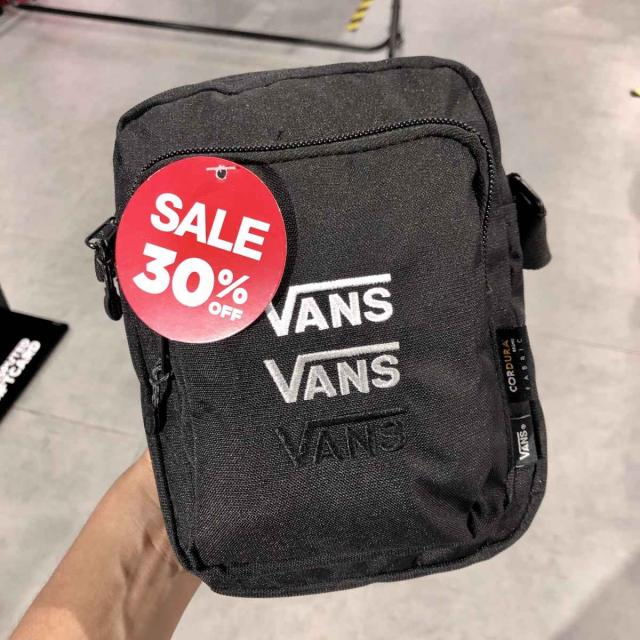Handbag: (109, 56, 547, 596)
